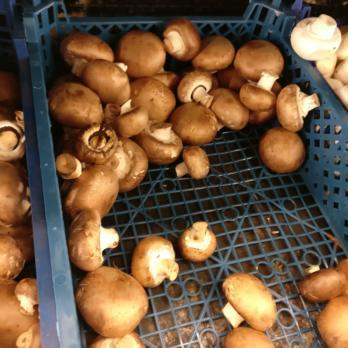Mushroom: (48, 32, 308, 176), (79, 176, 171, 348), (300, 262, 348, 348), (219, 270, 283, 333), (292, 10, 344, 62), (181, 221, 216, 260)
